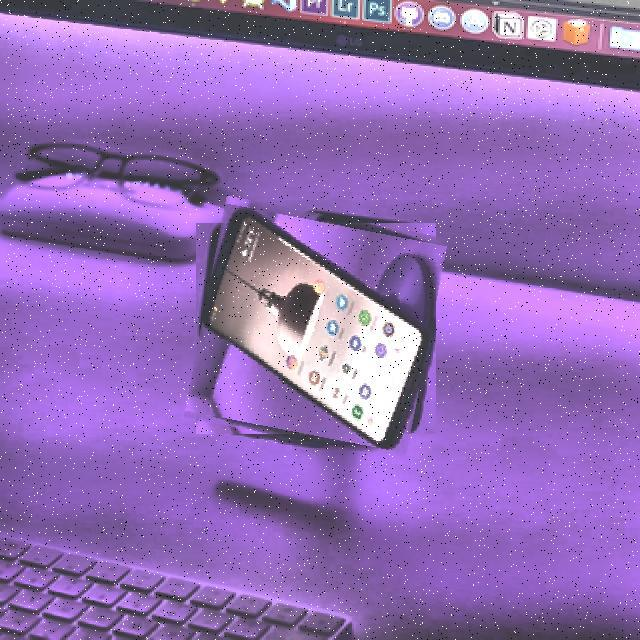Phone: (194, 205, 438, 450)
